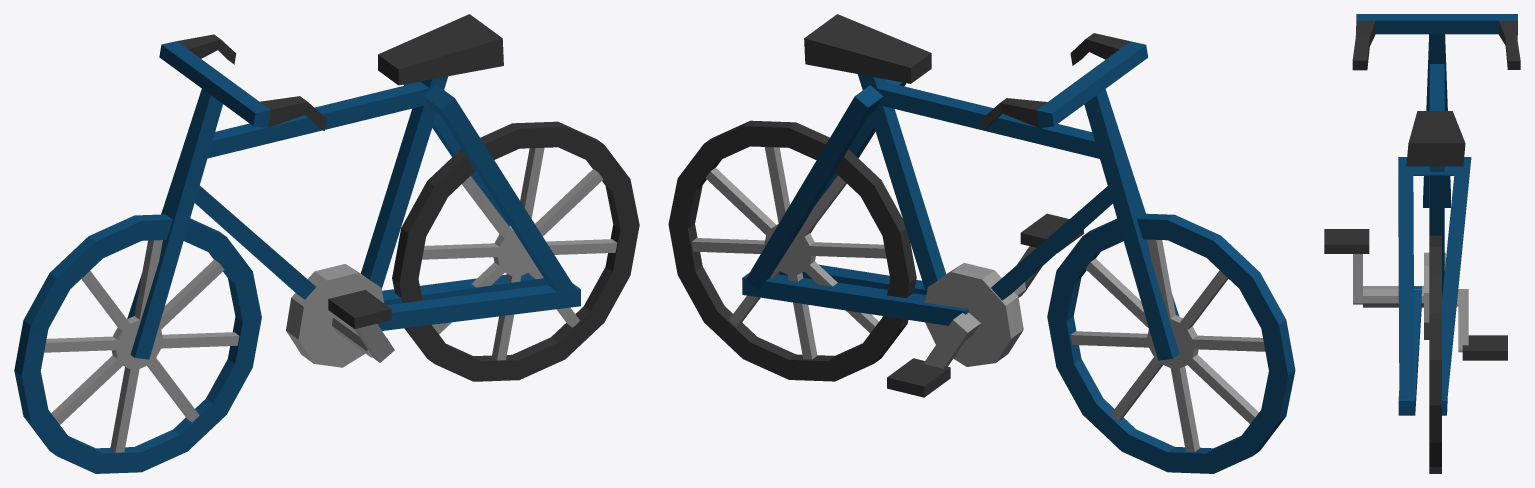
The model's file is B02_velo_3.fbx.
The picture shows the model from 3 angles, left to right: view 1: azimuth 30°, elevation 25°; view 2: azimuth 150°, elevation 25°; view 3: azimuth 270°, elevation 25°; orthographic projection. The views are drawn at different scales.
Visible parts, largest first — view 1: B02_velo_3; view 2: B02_velo_3; view 3: B02_velo_3.
Boxes of the visible parts, left/top/right/bottom form: B02_velo_3: left=14, top=14, right=639, bottom=473; B02_velo_3: left=668, top=14, right=1295, bottom=473; B02_velo_3: left=1324, top=14, right=1520, bottom=473.
Bounding box in the file's own units: 306 × 176 × 97.92.
